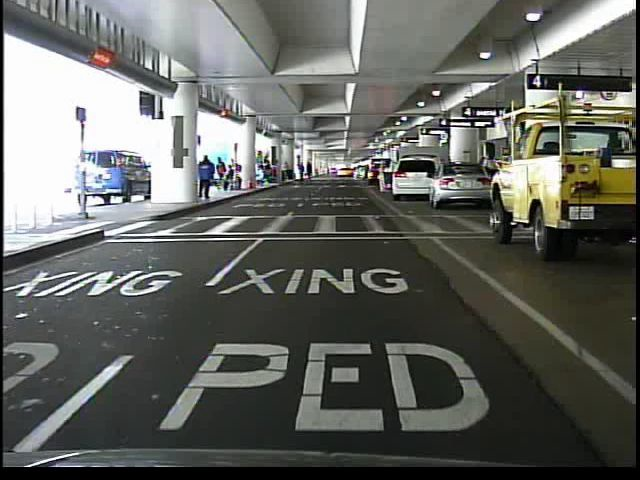person: (195, 153, 216, 203)
